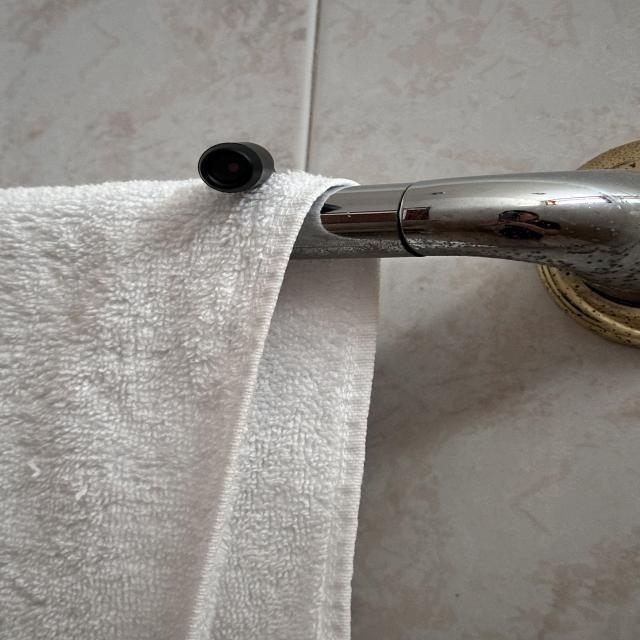hidden camera: (197, 143, 260, 192)
